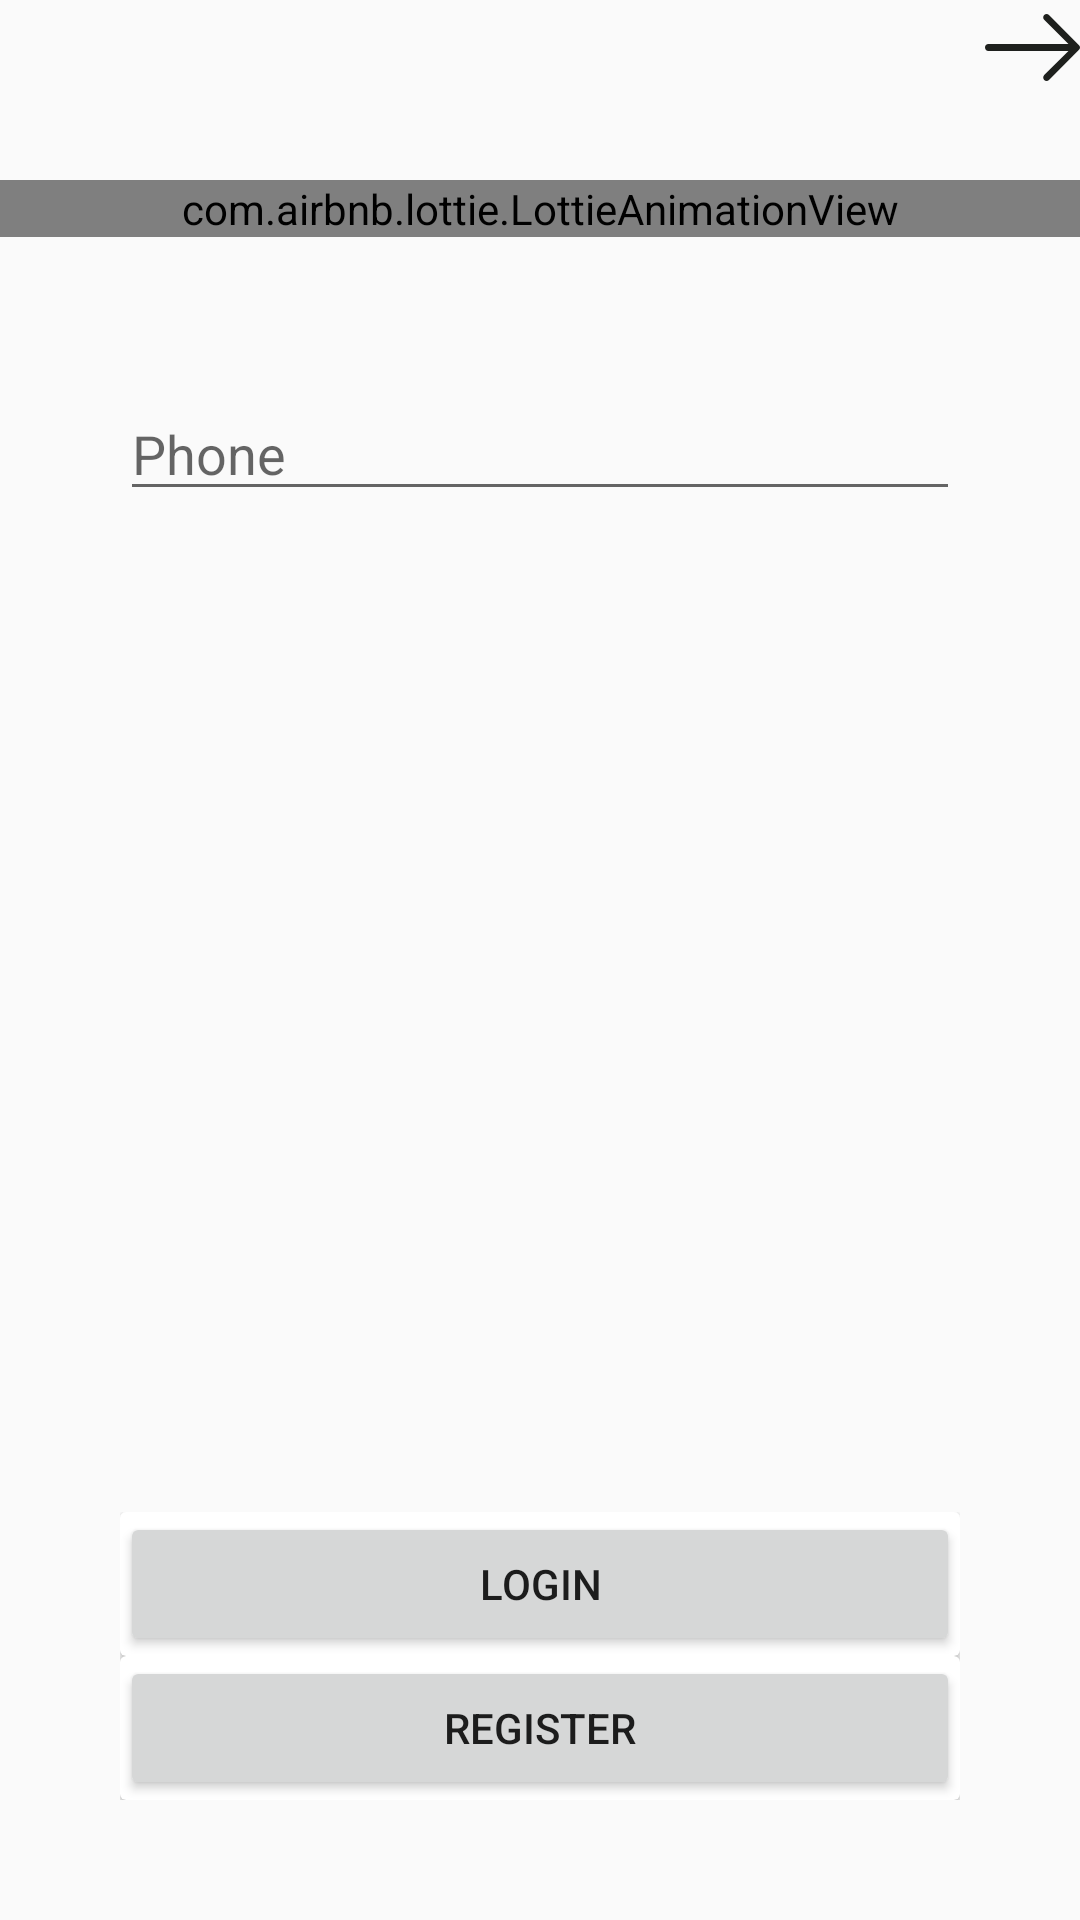

Screen size 1080px x 1920px. Icon name, then its center in pixels as point (x, y):
right arrow: point (1032, 47)
